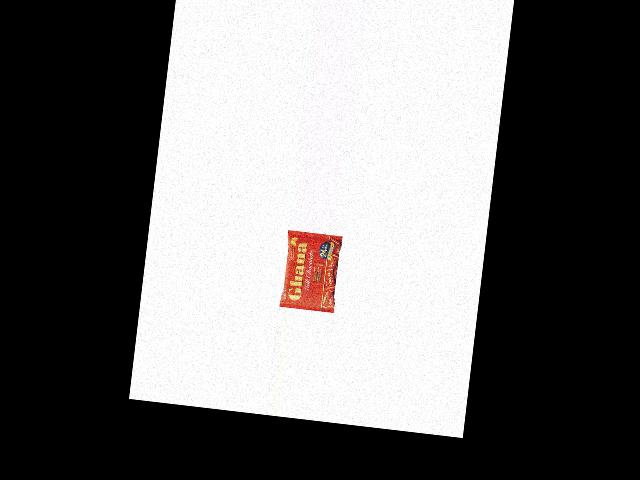chocolate: (280, 229, 344, 311)
